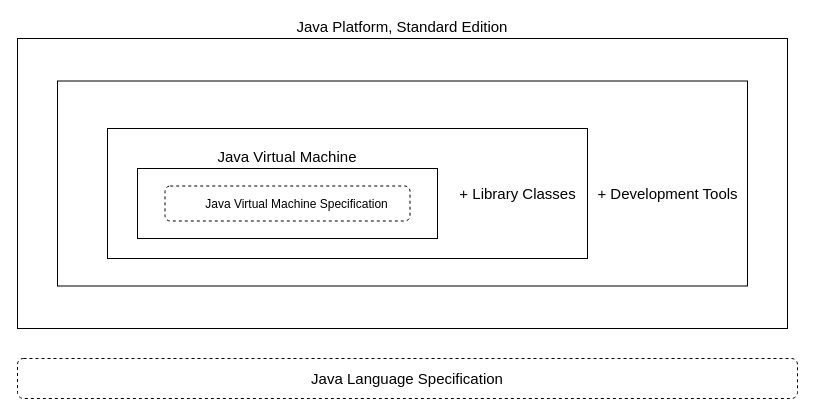
The diagram is 815 pixels wide and 416 high, and some of its shapes have lost their labels. Here are the shapes that lost their labels. From the top down, the box of each, then its label:
(106, 128, 588, 258): Java Runtime Environment
(56, 80, 748, 286): Java Development Kit
